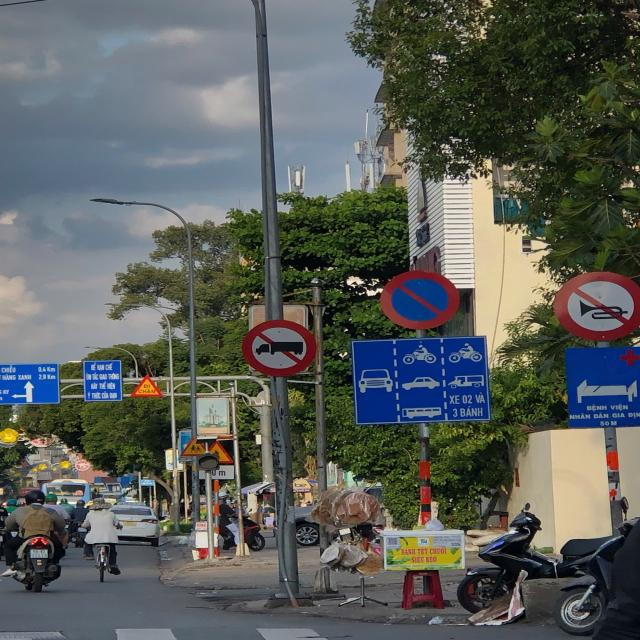Bien bao cam do xe: (370, 262, 468, 331)
Bien bao cam xe so-mi ro-mooc: (232, 313, 324, 382)
